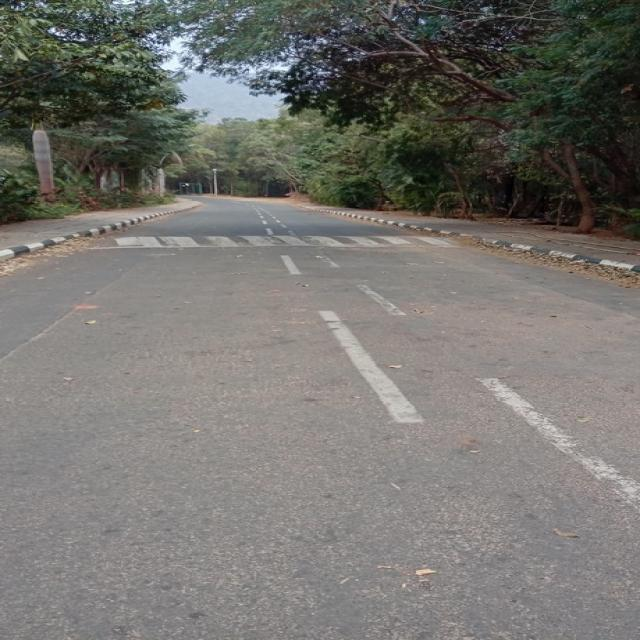speedbreaker: (86, 231, 476, 249)
